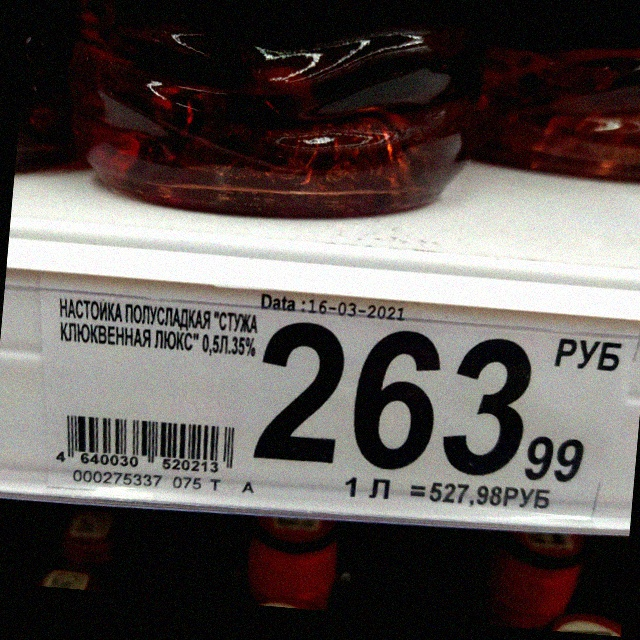barcode: (51, 412, 238, 475)
name: (58, 293, 260, 362)
price: (247, 318, 586, 489)
price_tag: (39, 270, 627, 532)
